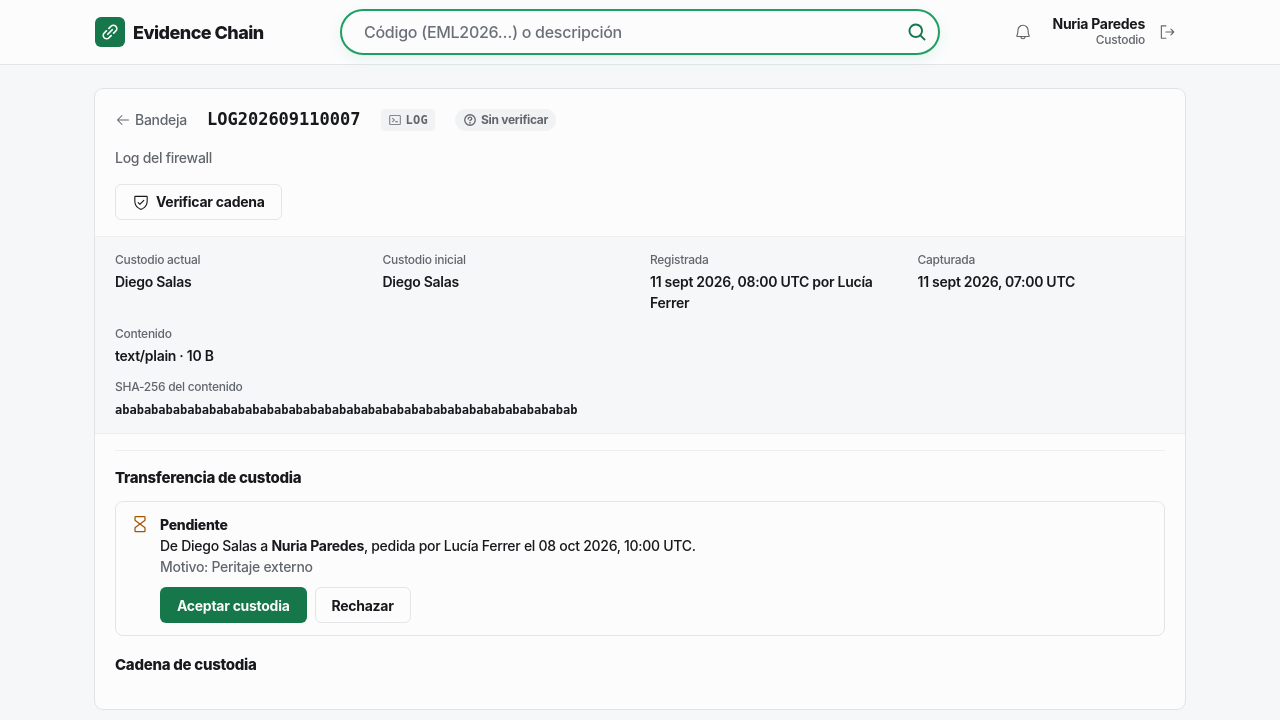
Scenario: TransferPanel › on a 409 shows the transfer as the server left it, says who acted and when, and moves focus to the alert
Expected: the heading "LOG202609110007" is shown, [207,107,360,132]
Click the button "Aceptar custodia": (233, 605) [160,587,306,623]
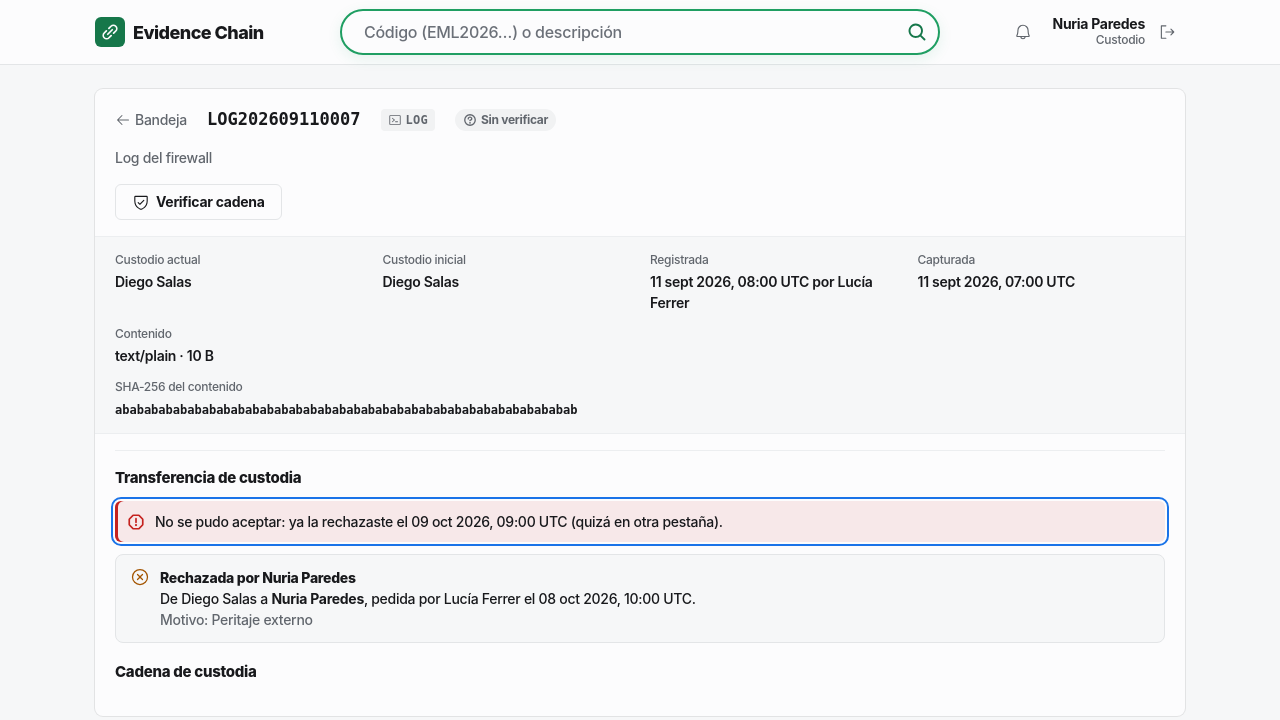
Expected: the message shows "No se pudo aceptar: ya la rechazaste el 09 oct 2026, 09:00 UTC (quizá en otra pestaña).", [155,513,723,530]
Expected: the text "Rechazada por Nuria Paredes" is shown, [160,569,356,586]
Expected: the button "Aceptar custodia" is gone
